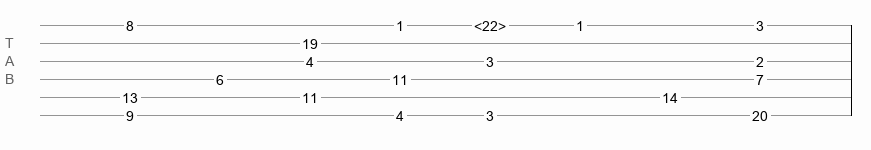1: (396, 18, 404, 28), (576, 18, 584, 28)
11: (302, 90, 318, 100), (392, 72, 408, 82)
13: (122, 90, 138, 100)
14: (662, 90, 678, 100)
19: (302, 36, 318, 46)
2: (756, 54, 764, 64)
20: (752, 108, 768, 118)
3: (486, 54, 494, 64), (486, 108, 494, 118), (756, 18, 764, 28)
4: (306, 54, 314, 64), (396, 108, 404, 118)
6: (216, 72, 224, 82)
7: (756, 72, 764, 82)
8: (126, 18, 134, 28)
9: (126, 108, 134, 118)
harmonic: (474, 18, 506, 28)
